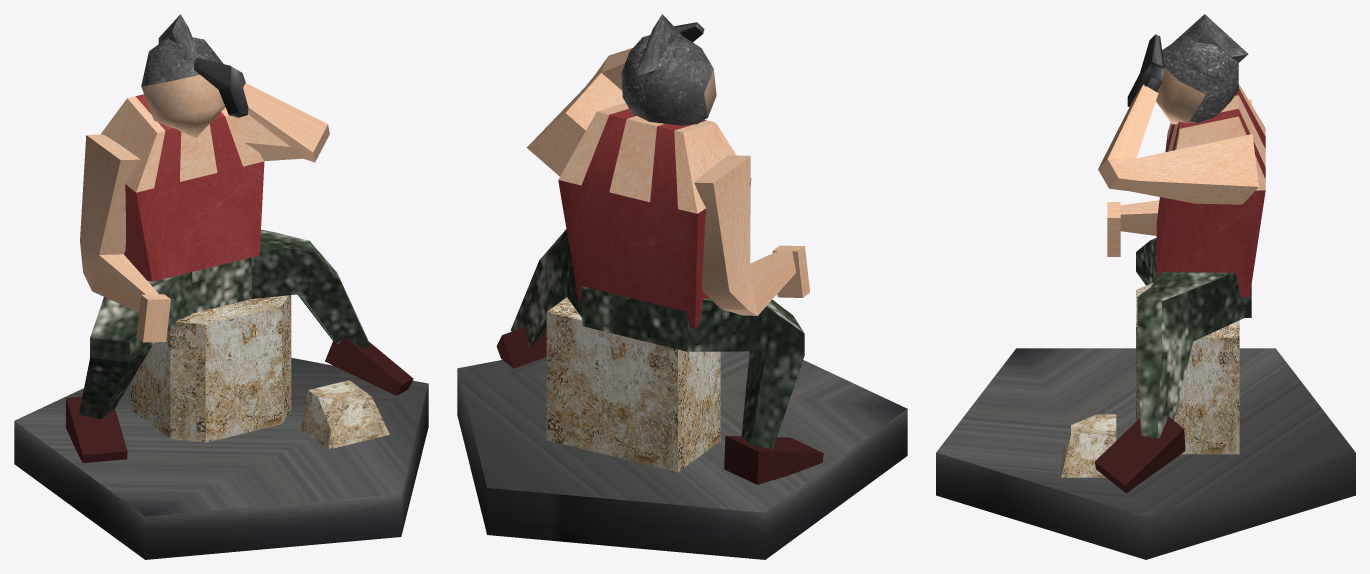
The model's file is vas.FBX.
The picture shows the model from 3 angles, left to right: view 1: azimuth 30°, elevation 25°; view 2: azimuth 150°, elevation 25°; view 3: azimuth 270°, elevation 25°; orthographic projection. The views are drawn at different scales.
Parts seen in each view (by area): view 1: Cylinder001, Box009, Box002, Object002, Box003, Box001, Box004, Box010, Sphere001, Box007, Box008, Object001 (+2 smaller); view 2: Cylinder001, Box009, Object002, Box002, Box003, Box001, Object001, Box004, Box007, Box008, Box005; view 3: Cylinder001, Box002, Box004, Object002, Box009, Object001, Box008, Box010, Box001, Box003, Sphere001, Box005 (+1 smaller).
Part boxes in pixels (left/top/right/bottom): Cylinder001: left=14, top=358, right=428, bottom=559; Box009: left=131, top=295, right=291, bottom=442; Box002: left=78, top=229, right=370, bottom=419; Object002: left=124, top=94, right=264, bottom=281; Box003: left=80, top=134, right=170, bottom=342; Box001: left=100, top=96, right=263, bottom=192; Box004: left=239, top=83, right=329, bottom=162; Box010: left=300, top=380, right=389, bottom=448; Sphere001: left=141, top=74, right=225, bottom=137; Box007: left=66, top=396, right=127, bottom=462; Box008: left=325, top=338, right=413, bottom=395; Object001: left=141, top=37, right=223, bottom=86; Cylinder001: left=457, top=351, right=907, bottom=559; Box009: left=546, top=297, right=720, bottom=472; Object002: left=558, top=109, right=751, bottom=328; Box002: left=510, top=229, right=804, bottom=449; Box003: left=694, top=155, right=809, bottom=315; Box001: left=558, top=102, right=750, bottom=213; Object001: left=621, top=34, right=713, bottom=125; Box004: left=526, top=48, right=632, bottom=176; Box007: left=724, top=436, right=823, bottom=484; Box008: left=496, top=326, right=546, bottom=368; Box005: left=638, top=14, right=682, bottom=80; Cylinder001: left=936, top=348, right=1355, bottom=559; Box002: left=1136, top=238, right=1251, bottom=438; Box004: left=1098, top=84, right=1258, bottom=204; Object002: left=1156, top=88, right=1265, bottom=298; Box009: left=1136, top=282, right=1239, bottom=454; Object001: left=1162, top=39, right=1238, bottom=122; Box008: left=1095, top=416, right=1185, bottom=493; Box010: left=1061, top=414, right=1116, bottom=477; Box001: left=1167, top=84, right=1265, bottom=190; Box003: left=1107, top=99, right=1251, bottom=256; Sphere001: left=1156, top=67, right=1205, bottom=124; Box005: left=1165, top=14, right=1248, bottom=63.
Bounding box in the file's own units: 45.25 × 55.09 × 47.58.
7 materials, 7 textured.
